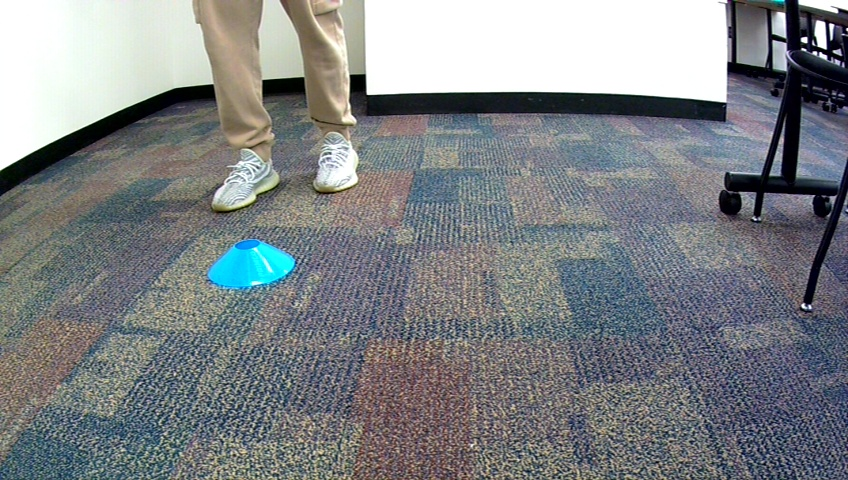cone: (207, 239, 295, 288)
